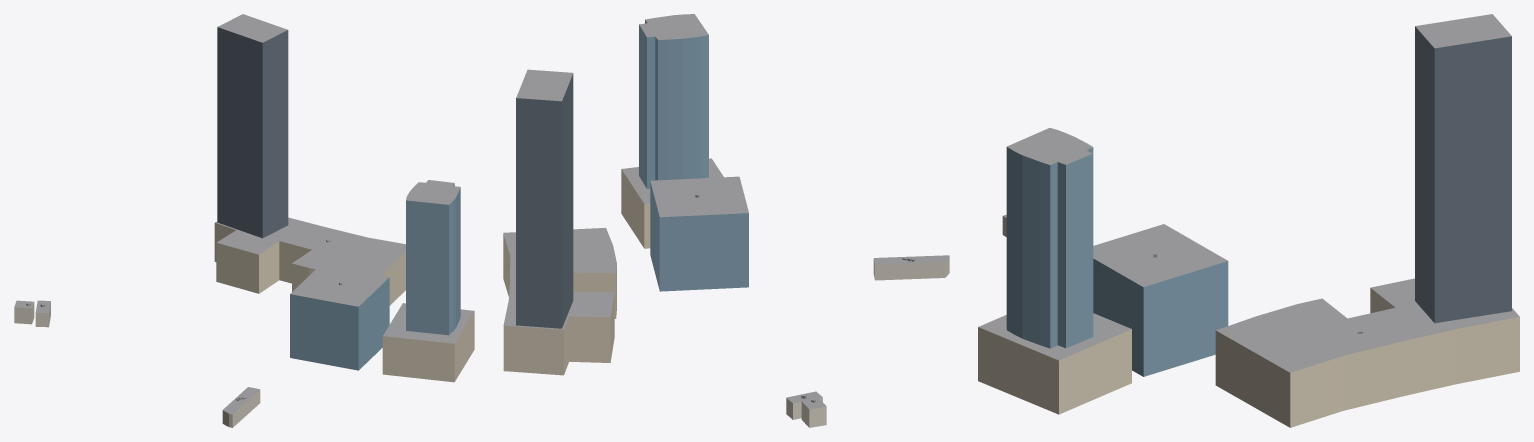
The model's file is building_-4_3.glb.
The picture shows the model from 3 angles, left to right: view 1: azimuth 30°, elevation 25°; view 2: azimuth 150°, elevation 25°; view 3: azimuth 270°, elevation 25°; orthographic projection. The views are drawn at different scales.
Parts seen in each view (by area): view 1: glass_dark, glass_blue, roof, sandstone, concrete_warm; view 2: glass_blue, glass_dark, roof, sandstone, concrete_warm; view 3: glass_dark, glass_blue, sandstone, roof.
Part boxes in pixels (x1,y1,x2,y2): glass_dark: (217,27,288,238); glass_blue: (290,183,460,370); roof: (14,14,474,414); sandstone: (214,223,474,382); concrete_warm: (14,302,260,427); glass_blue: (639,20,748,291); glass_dark: (516,74,573,328); roof: (503,14,949,409); sandstone: (503,169,650,375); concrete_warm: (786,258,949,427); glass_dark: (1415,26,1511,323); glass_blue: (1006,147,1228,376); sandstone: (978,288,1519,427); roof: (978,14,1519,372).
Bounding box in the file's own units: 301 × 200 × 298.
